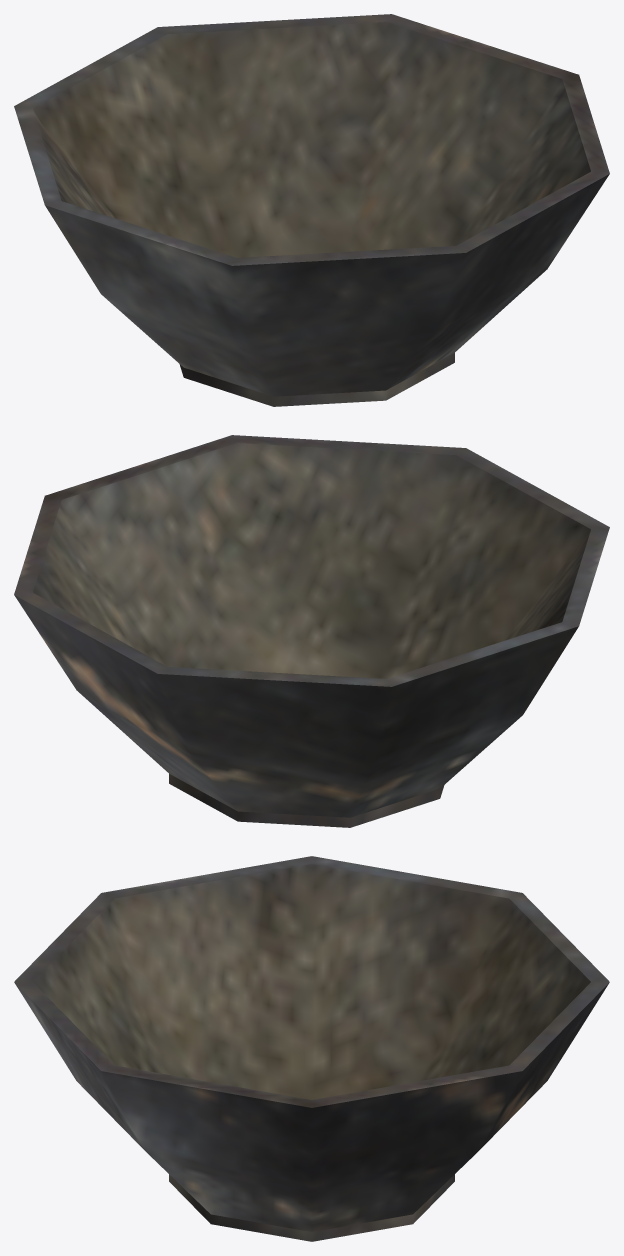
The model's file is Bowl_T02.FBX.
The picture shows the model from 3 angles, top to bottom: view 1: azimuth 30°, elevation 25°; view 2: azimuth 150°, elevation 25°; view 3: azimuth 270°, elevation 25°; orthographic projection. The views are drawn at different scales.
Visible parts, largest first — view 1: Bowl_T01; view 2: Bowl_T01; view 3: Bowl_T01.
Boxes of the visible parts, x1,y1,x2,y2 form: Bowl_T01: [14, 14, 609, 406]; Bowl_T01: [14, 435, 609, 827]; Bowl_T01: [14, 856, 609, 1241].
Bounding box in the file's own units: 25.13 × 9.28 × 25.13.
